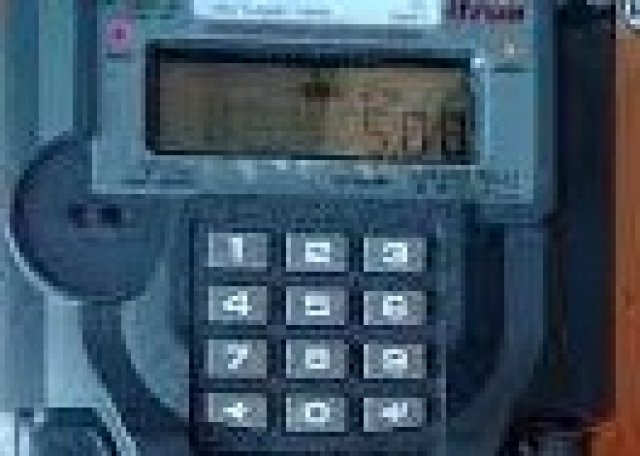box: (153, 54, 474, 162)
